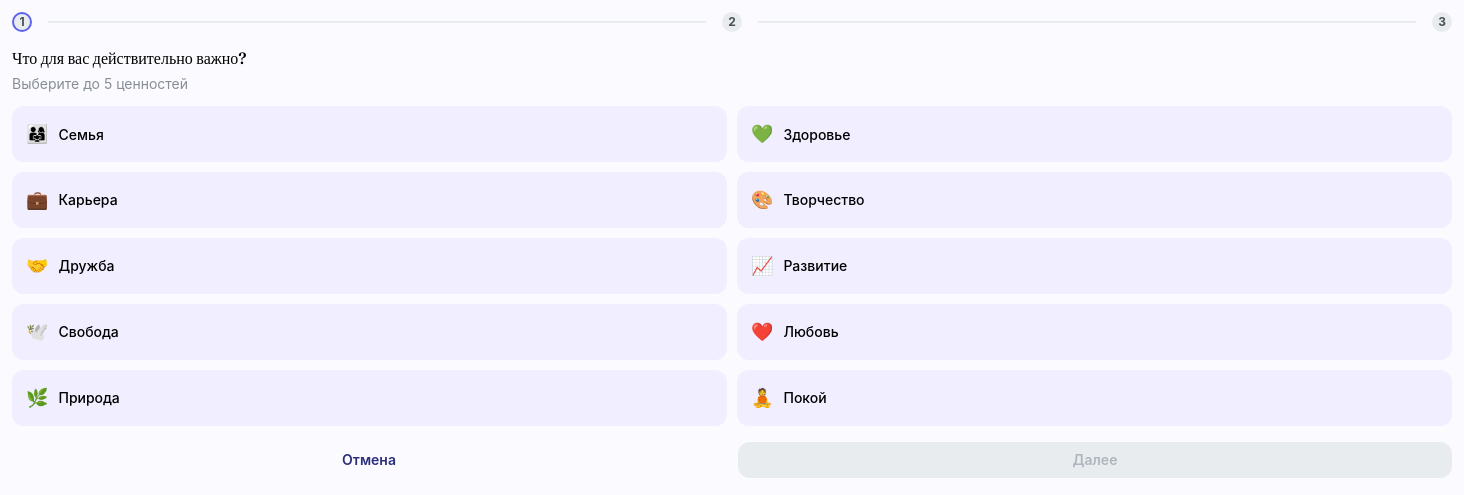
Test: ValuesDiaryForm › navigates to step 2 when clicking "Далее" after selecting a value
What coordinates should you click on to do the following:
click the text "Семья"
I would click on:
 (81, 134)
Its box is 58,124 -> 104,145.
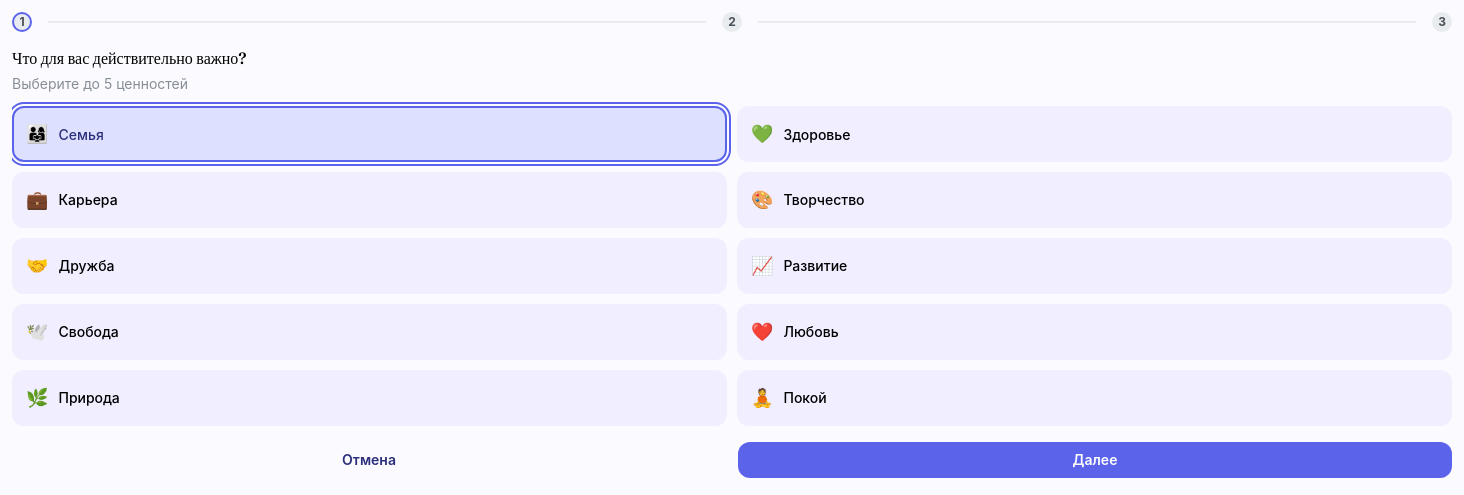
What coordinates should you click on to do the following:
click the button "Далее"
I would click on:
 (1095, 460)
Its box is 738,442 -> 1452,478.
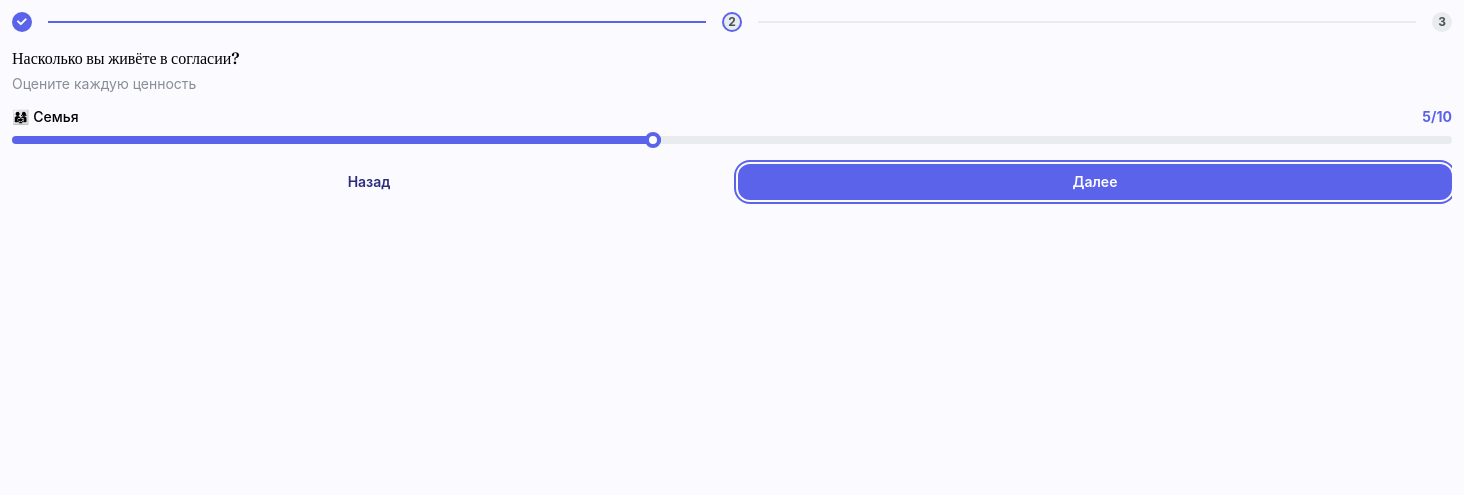
Expected: the heading "Насколько вы живёте в согласии?" is shown, 12,48 -> 240,68
